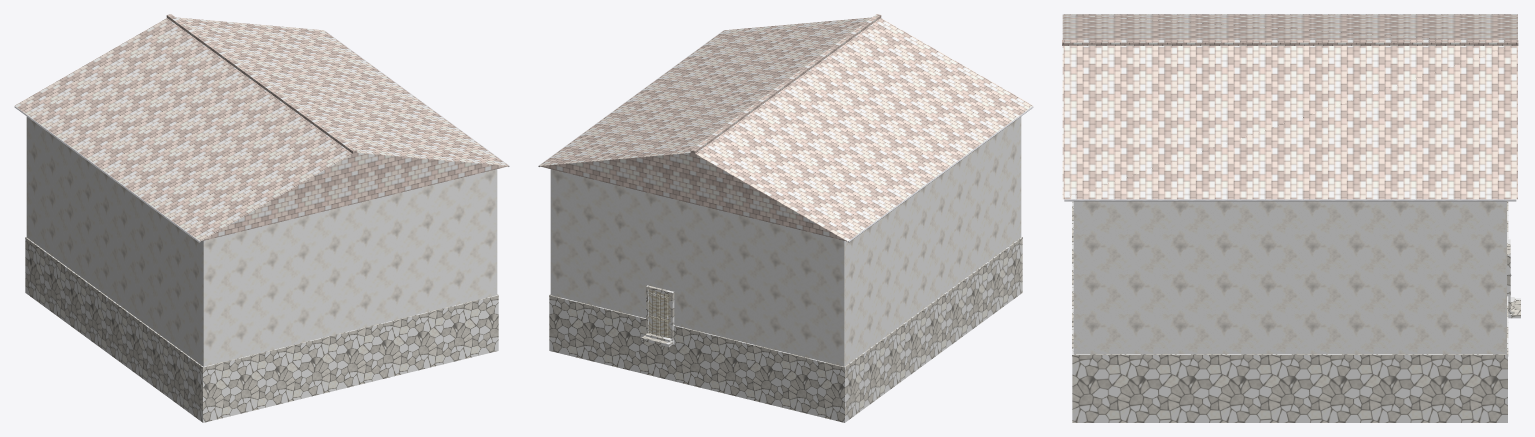
3 views of the same model, side by side, from view 1: azimuth 30°, elevation 25°; view 2: azimuth 150°, elevation 25°; view 3: azimuth 270°, elevation 25° (orthographic). The views are drawn at different scales.
Parts seen in each view (by area): view 1: b1088806823; view 2: b1088806823; view 3: b1088806823.
Part boxes in pixels (x1=…): b1088806823: x1=14, y1=14, x2=509, y2=422; b1088806823: x1=538, y1=14, x2=1033, y2=422; b1088806823: x1=1062, y1=14, x2=1520, y2=422.
Bounding box in the file's own units: 14 × 10.29 × 14.6.
11 materials, 11 textured.
